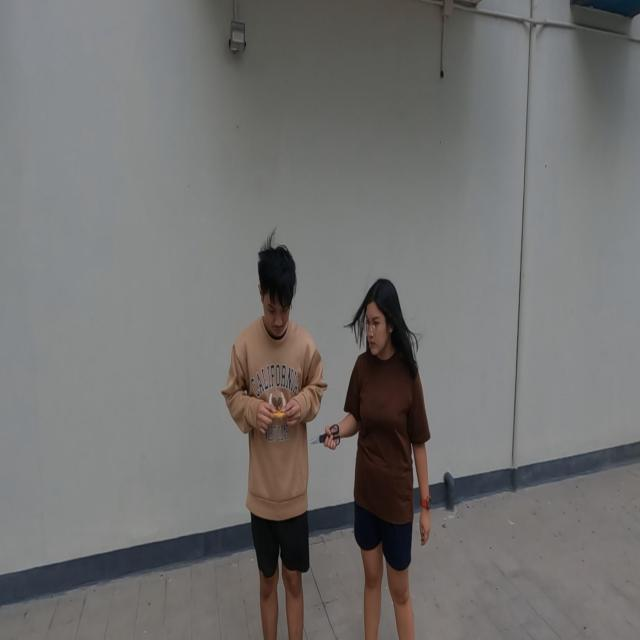scissor: (310, 424, 340, 449), (274, 410, 286, 424)
